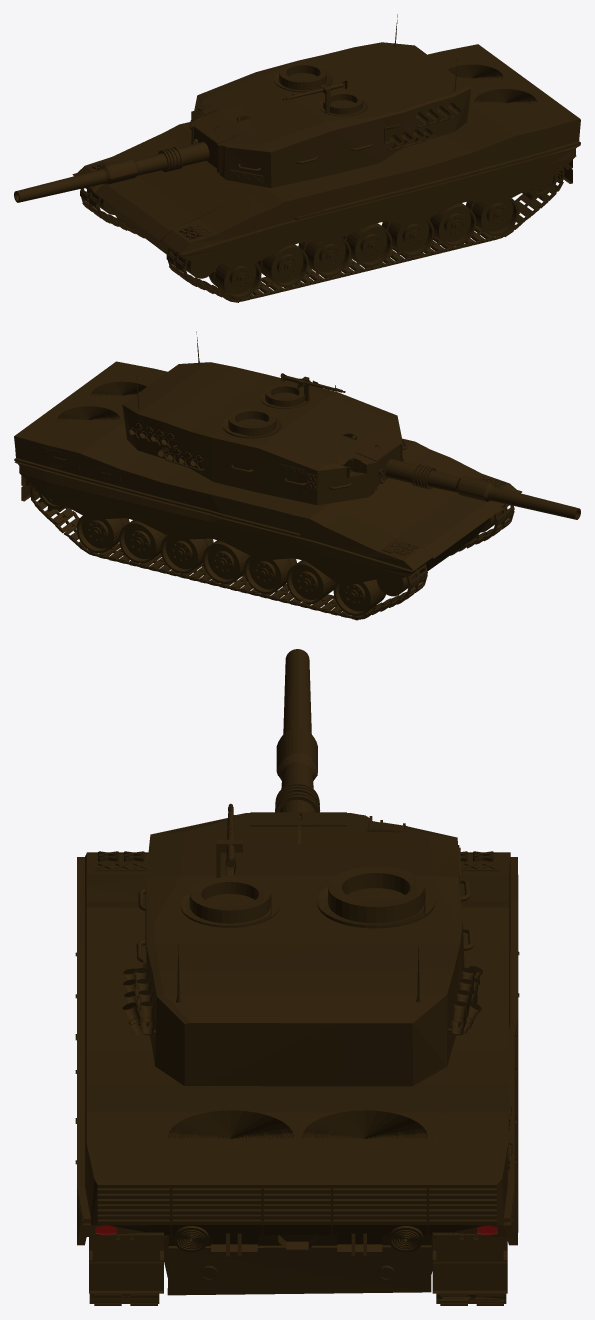
Rendered from demo.fbx.
3 views of the same model, one above another, from view 1: azimuth 30°, elevation 25°; view 2: azimuth 150°, elevation 25°; view 3: azimuth 270°, elevation 25° (orthographic). The views are drawn at different scales.
Parts seen in each view (by area): view 1: Cylinder; view 2: Cylinder; view 3: Cylinder.
Boxes of the visible parts, left/top/right/bottom form: Cylinder: left=14, top=14, right=580, bottom=302; Cylinder: left=14, top=331, right=580, bottom=620; Cylinder: left=75, top=649, right=519, bottom=1305.
Bounding box in the file's own units: 496 × 157 × 185.
